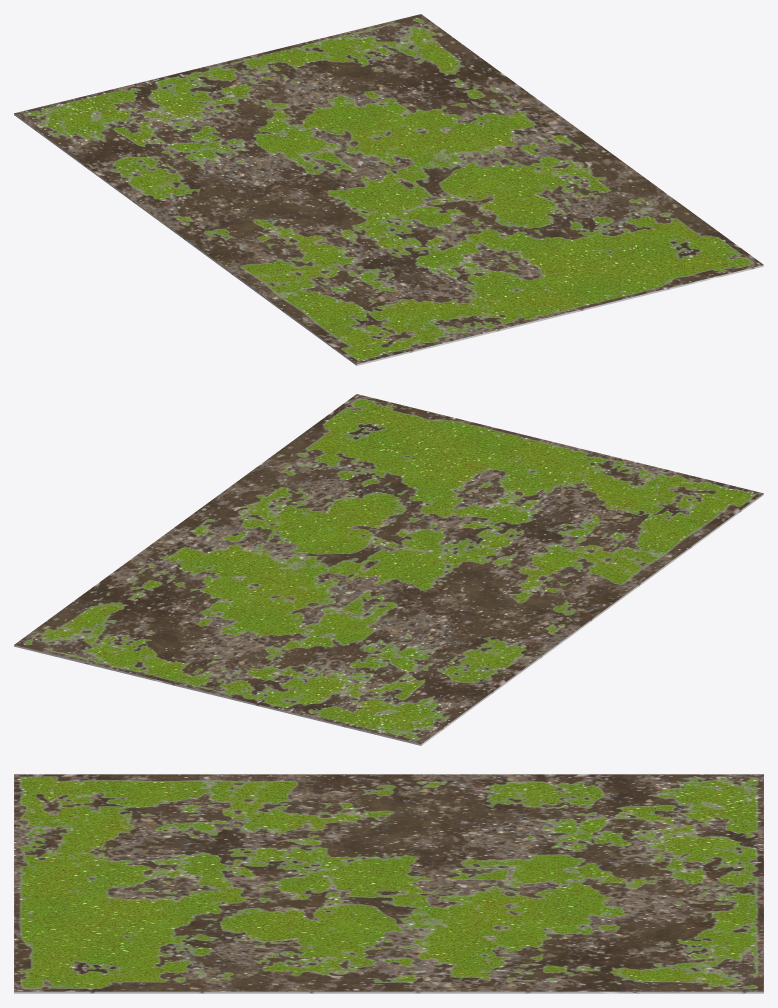
Rendered from Football Block.fbx.
3 renders of one model, top to bottom at view 1: azimuth 30°, elevation 25°; view 2: azimuth 150°, elevation 25°; view 3: azimuth 270°, elevation 25°, orthographic. The views are drawn at different scales.
Visible parts, largest first — view 1: pCube1__1__sh_218, pCube1__1__sh_29, pCube1__1__sh_168, pCube1__1__sh_69, pCube1__1__sh_141, pCube1__1__sh_212, pCube1__1__sh_193, pCube1__1__sh_171, pCube1__1__sh_66, pCube1__1__sh_49, pCube1__1__sh_75, pCube1__1__sh_243 (+92 smaller); view 2: pCube1__1__sh_218, pCube1__1__sh_29, pCube1__1__sh_69, pCube1__1__sh_168, pCube1__1__sh_141, pCube1__1__sh_193, pCube1__1__sh_212, pCube1__1__sh_171, pCube1__1__sh_66, pCube1__1__sh_49, pCube1__1__sh_75, pCube1__1__sh_243 (+91 smaller); view 3: pCube1__1__sh_29, pCube1__1__sh_218, pCube1__1__sh_69, pCube1__1__sh_168, pCube1__1__sh_141, pCube1__1__sh_193, pCube1__1__sh_60, pCube1__1__sh_171, pCube1__1__sh_243, pCube1__1__sh_212, pCube1__1__sh_66, pCube1__1__sh_49 (+191 smaller).
Boxes of the visible parts, x1,y1,x2,y2 form: pCube1__1__sh_218: (391, 289, 472, 318); pCube1__1__sh_29: (501, 91, 567, 126); pCube1__1__sh_168: (392, 308, 479, 340); pCube1__1__sh_69: (75, 102, 135, 132); pCube1__1__sh_141: (493, 271, 578, 295); pCube1__1__sh_212: (536, 289, 606, 320); pCube1__1__sh_193: (166, 162, 235, 189); pCube1__1__sh_171: (329, 288, 392, 319); pCube1__1__sh_66: (435, 263, 497, 293); pCube1__1__sh_49: (326, 190, 398, 213); pCube1__1__sh_75: (582, 261, 641, 294); pCube1__1__sh_243: (536, 122, 588, 153); pCube1__1__sh_218: (560, 486, 651, 516); pCube1__1__sh_29: (119, 537, 196, 573); pCube1__1__sh_69: (351, 696, 417, 727); pCube1__1__sh_168: (601, 463, 661, 502); pCube1__1__sh_141: (479, 449, 542, 483); pCube1__1__sh_193: (420, 633, 498, 658); pCube1__1__sh_212: (499, 432, 578, 461); pCube1__1__sh_171: (600, 503, 660, 541); pCube1__1__sh_66: (497, 480, 561, 511); pCube1__1__sh_49: (395, 558, 462, 587); pCube1__1__sh_75: (417, 432, 500, 451); pCube1__1__sh_243: (162, 519, 235, 543); pCube1__1__sh_29: (441, 964, 537, 993); pCube1__1__sh_218: (87, 814, 156, 859); pCube1__1__sh_69: (663, 793, 755, 823); pCube1__1__sh_168: (14, 813, 96, 843); pCube1__1__sh_141: (60, 870, 129, 904); pCube1__1__sh_193: (500, 794, 555, 832); pCube1__1__sh_60: (533, 970, 637, 993); pCube1__1__sh_171: (97, 801, 198, 827); pCube1__1__sh_243: (373, 965, 444, 993); pCube1__1__sh_212: (14, 873, 69, 908); pCube1__1__sh_66: (106, 854, 181, 877); pCube1__1__sh_49: (345, 851, 408, 879).
Size of the model in its own units: 2287 by 9.08 by 3335.
1 material, 1 textured.
